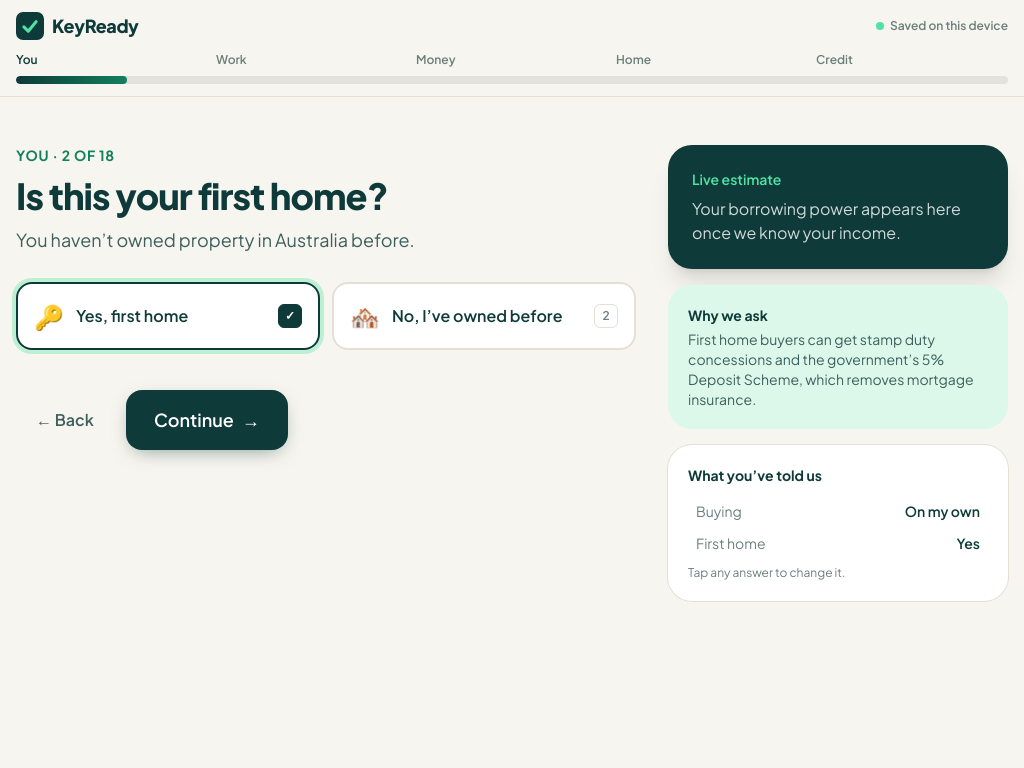
Scenario: Check page › shows Continue on an answered single-choice question and goes back a step
Click the button "← Back": point(65, 420) top-left (16, 396), bottom-right (114, 444)
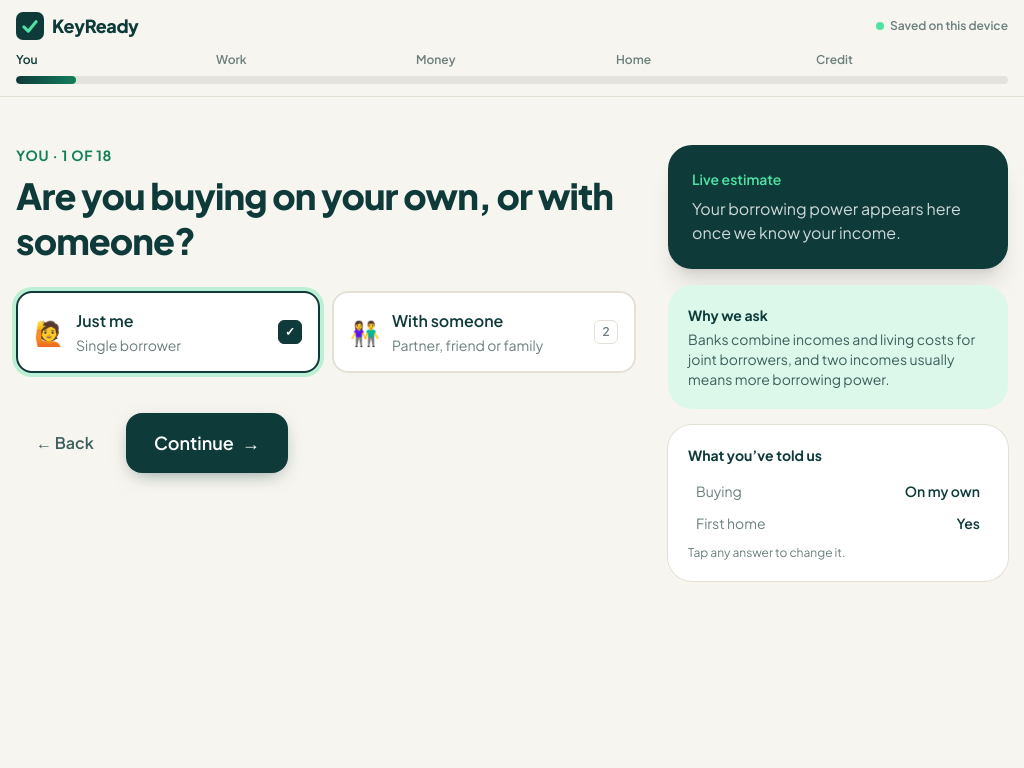
Expected: the heading "Are you buying on your own, or with someone?" is shown, top-left (16, 173), bottom-right (636, 263)
Click the button "Continue →": point(207, 443) top-left (126, 413), bottom-right (288, 473)
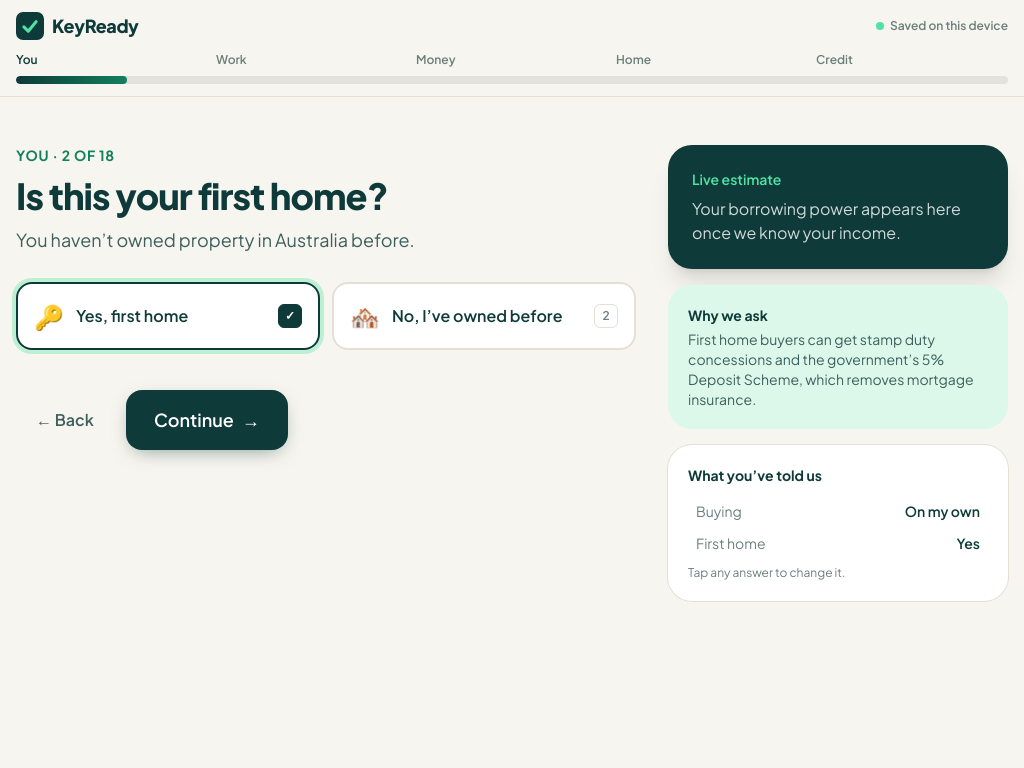
Expected: the heading "Is this your first home?" is shown, top-left (16, 173), bottom-right (388, 218)
